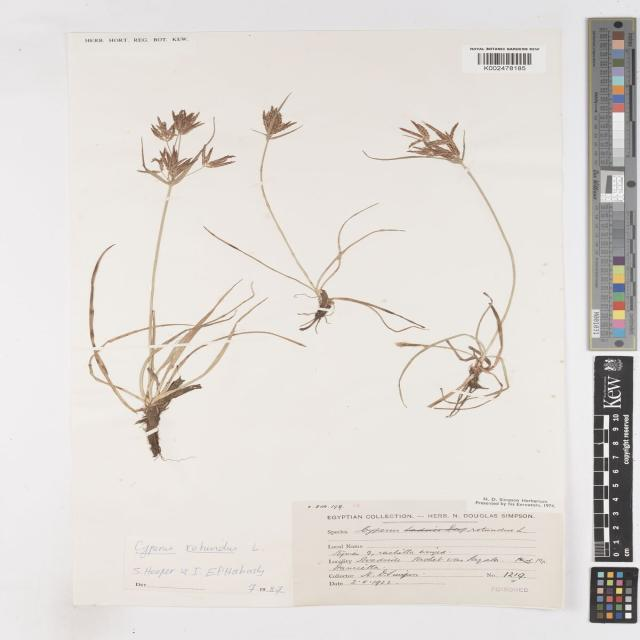cyperus: (120, 104, 235, 189), (368, 110, 478, 171), (248, 96, 302, 148)
